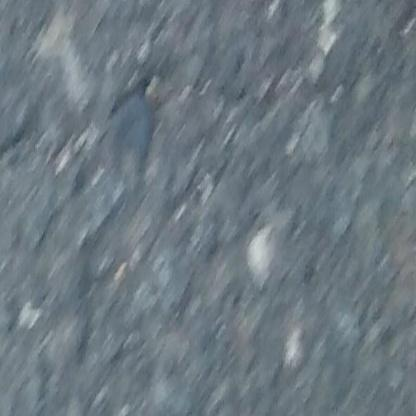Cracks: (103, 69, 268, 121), (0, 117, 76, 176)
